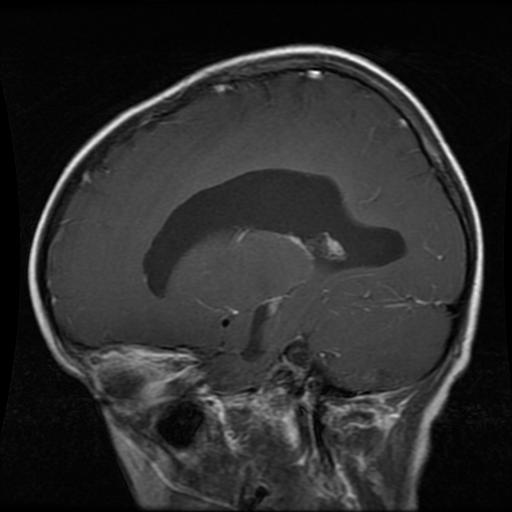Gliomia_tumour: (144, 165, 406, 294)
